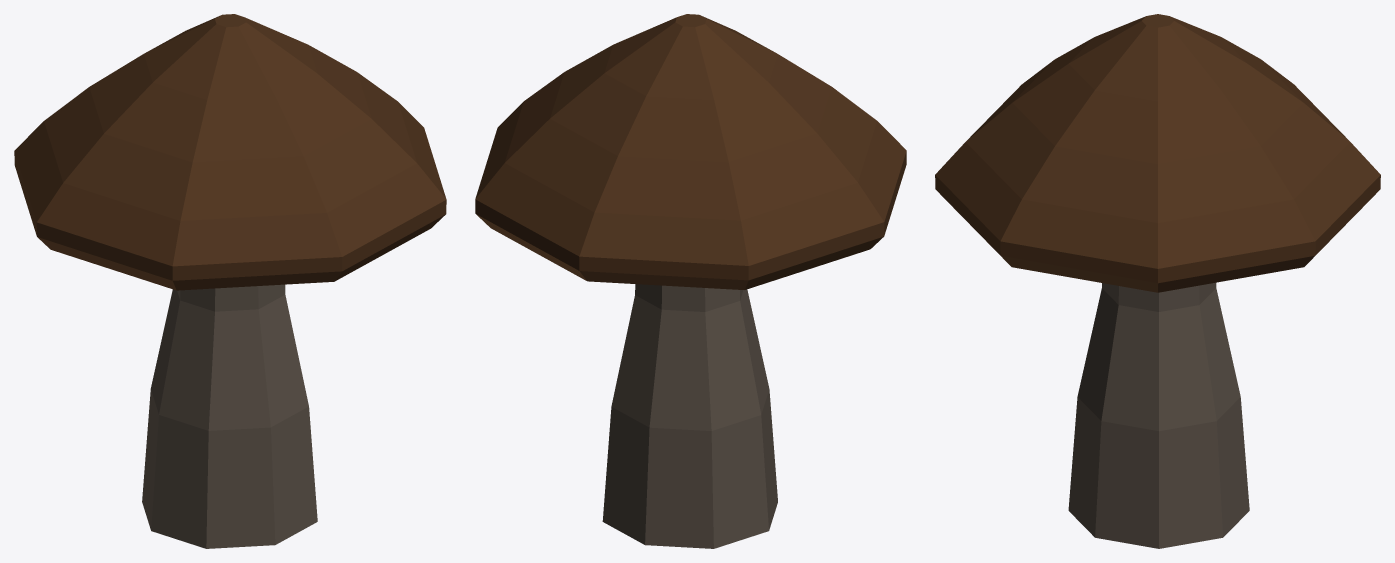
Rendered from Mushroom1.fbx.
The picture shows the model from 3 angles, left to right: view 1: azimuth 30°, elevation 25°; view 2: azimuth 150°, elevation 25°; view 3: azimuth 270°, elevation 25°; orthographic projection.
Parts seen in each view (by area): view 1: Circle; view 2: Circle; view 3: Circle.
Part boxes in pixels (x1,y1,x2,y2): Circle: [14, 14, 446, 548]; Circle: [475, 14, 906, 548]; Circle: [935, 14, 1380, 548].
Size of the model in its own units: 178 by 216 by 178.
